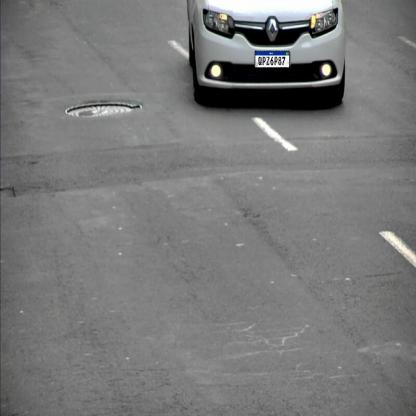PlacaM: (254, 51, 290, 68)
